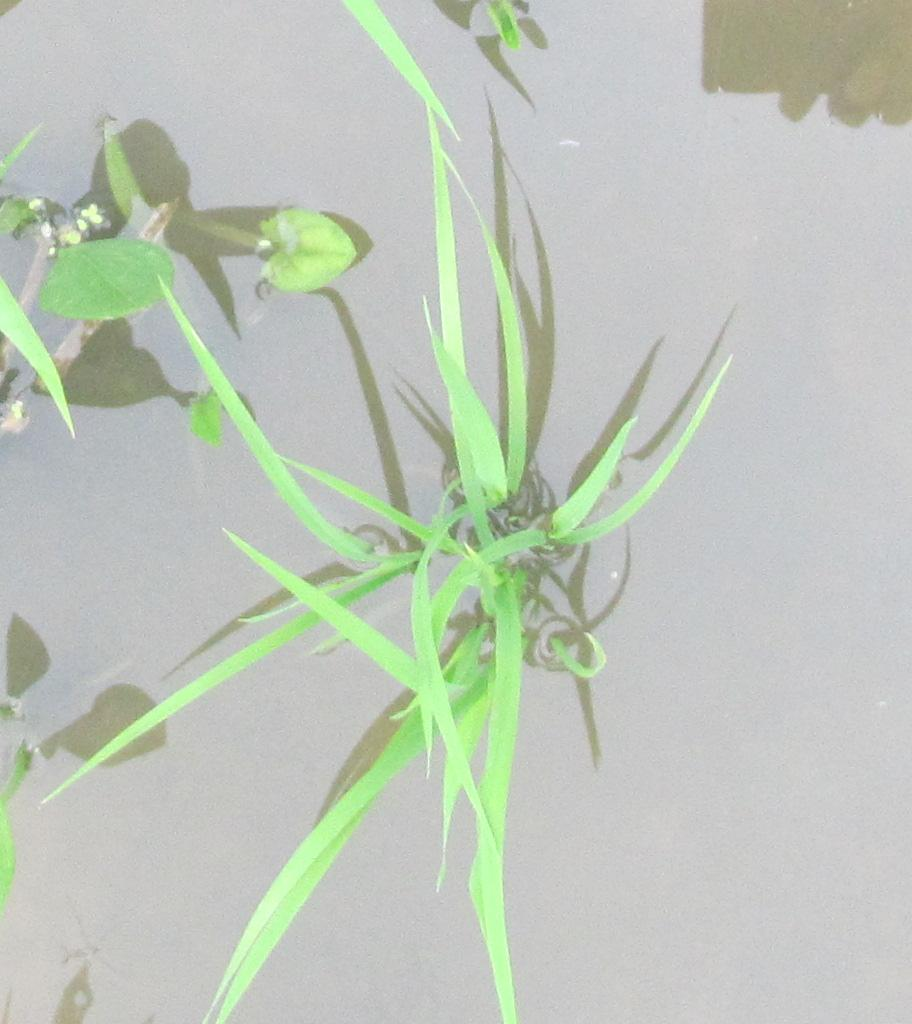Weed: (39, 192, 358, 325)
